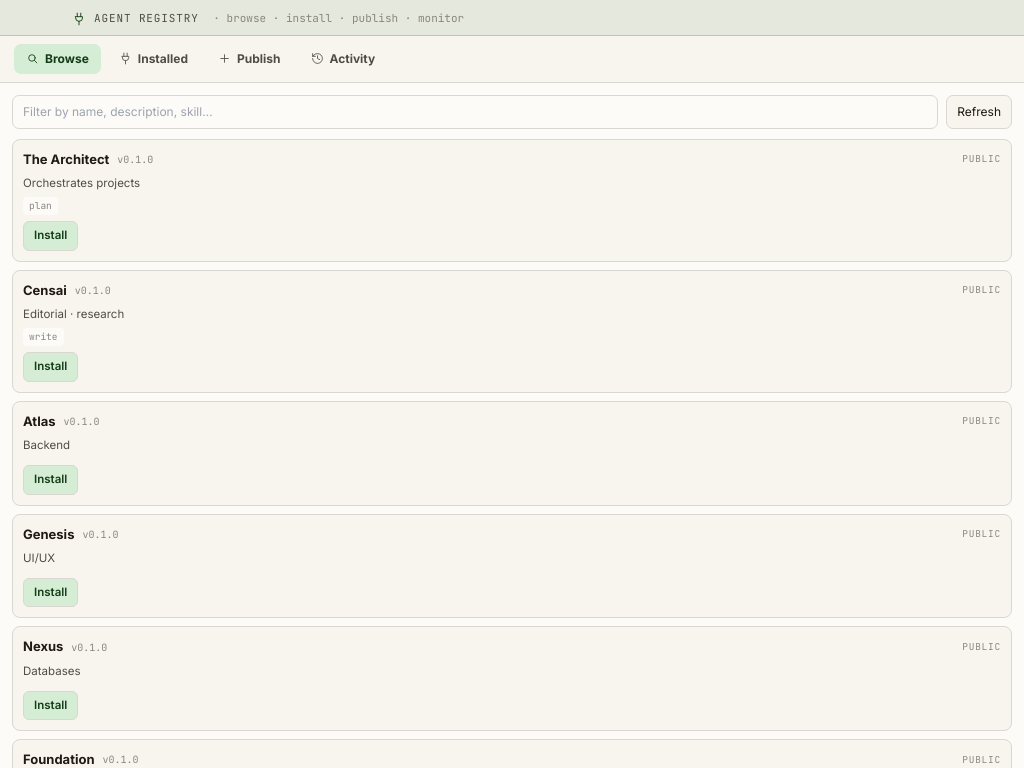
it: RegistryWindow — Browse tab › install button moves a card to Installed and disables itself
Step 1. Click the button with test id "registry-install" below "plan" → [51, 236], box left=23, top=221, right=78, bottom=251
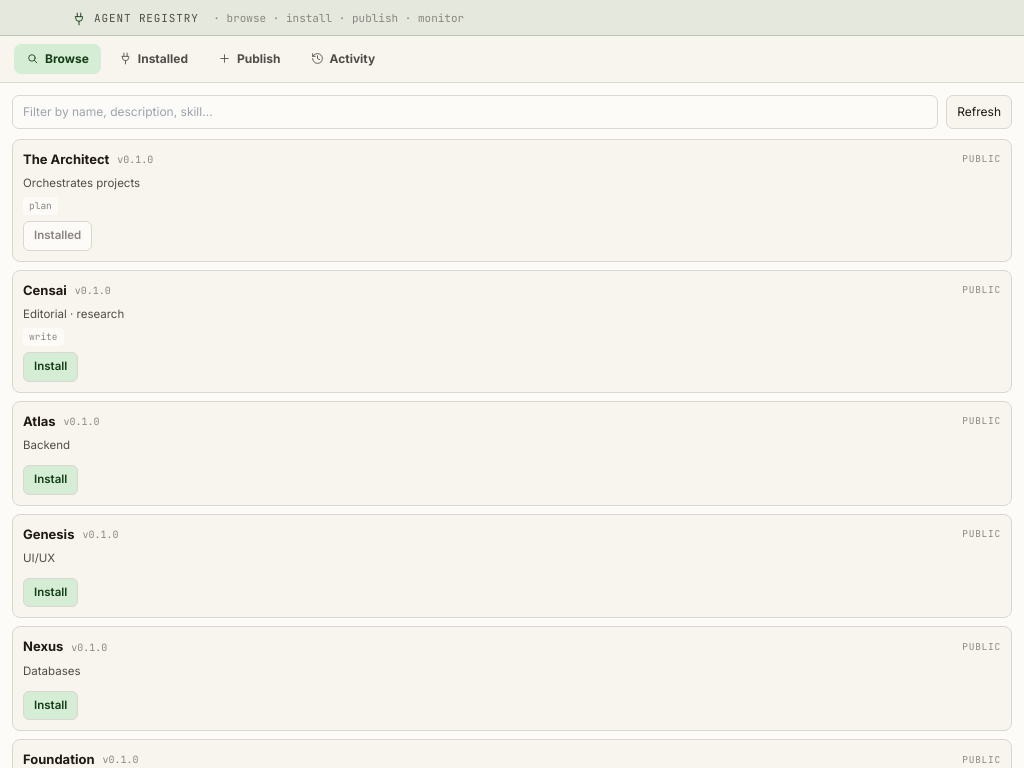
After install: the Installed tab now shows the card.
Step 2. Click the button with test id "registry-tab-installed" → [153, 58], box left=107, top=44, right=200, bottom=74
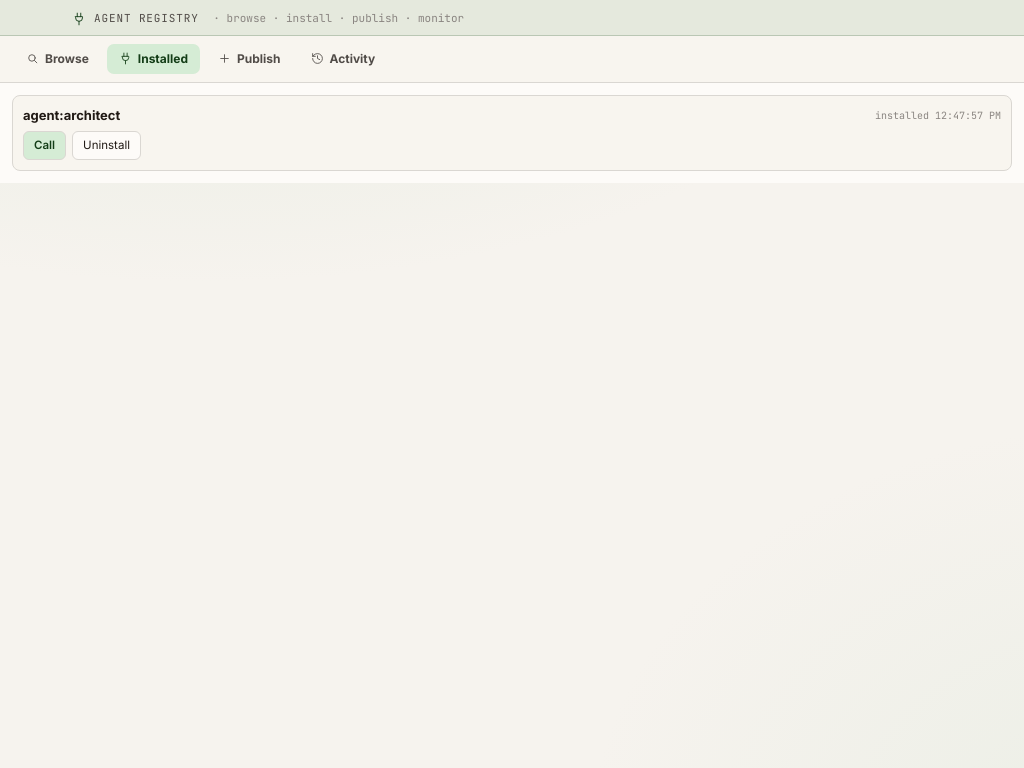
Expected: the element with test id "registry-installed-list" is shown, left=0, top=82, right=1023, bottom=183
Expected: the number of elements with test id "registry-installed-row" is 1, left=12, top=94, right=1012, bottom=171
